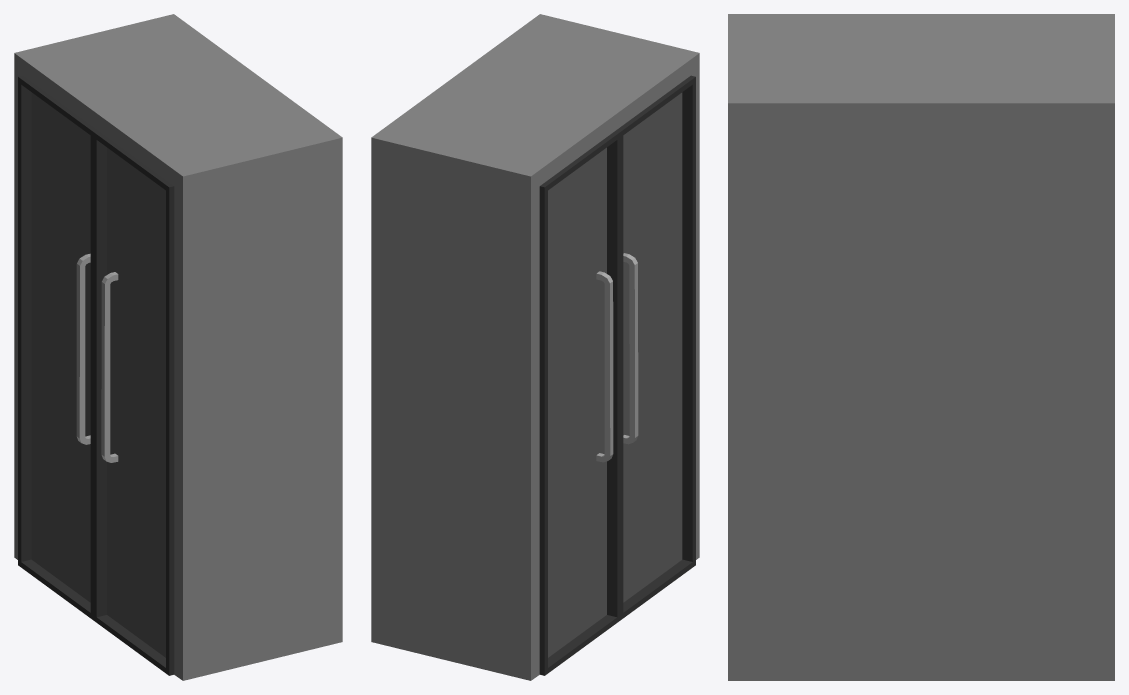
The model's file is Fridge.fbx.
3 renders of one model, left to right at view 1: azimuth 30°, elevation 25°; view 2: azimuth 150°, elevation 25°; view 3: azimuth 270°, elevation 25°, orthographic. The views are drawn at different scales.
Parts seen in each view (by area): view 1: Fridge; view 2: Fridge; view 3: Fridge.
Part boxes in pixels (<box>): Fridge: <box>14,14,342,680</box>; Fridge: <box>371,14,699,680</box>; Fridge: <box>728,14,1114,680</box>.
Bounding box in the file's own units: 73.05 × 209 × 127.
